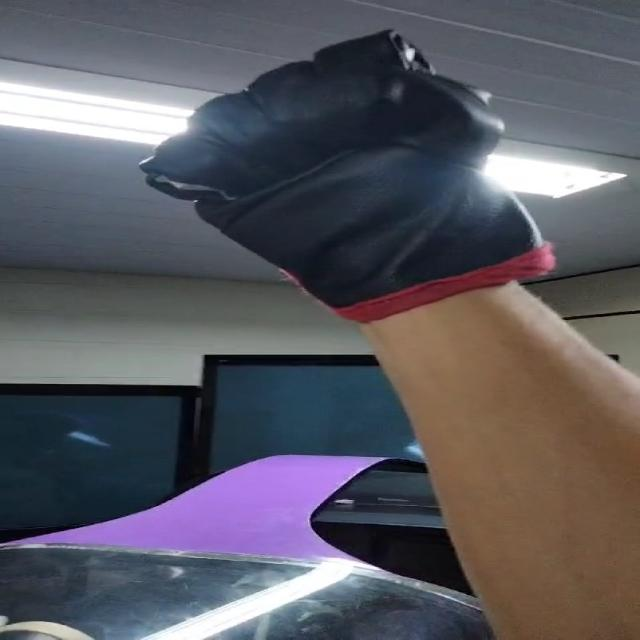Gloves: (154, 28, 569, 320)
